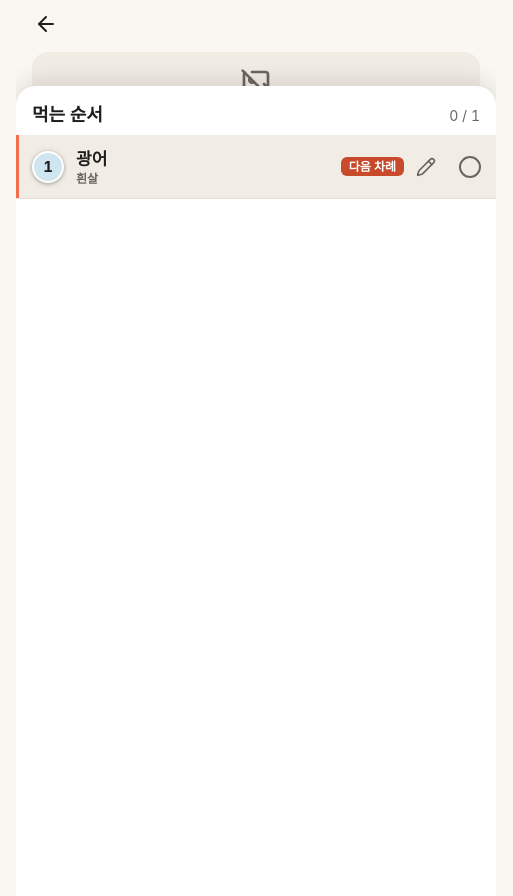
Test: ResultPage › 모든 항목을 먹으면 완료 배너가 뜬다 (FR-RES-010)
Click the button named "1번 광어 먹음 표시": [470, 167] box x1=448 y1=145 x2=492 y2=189
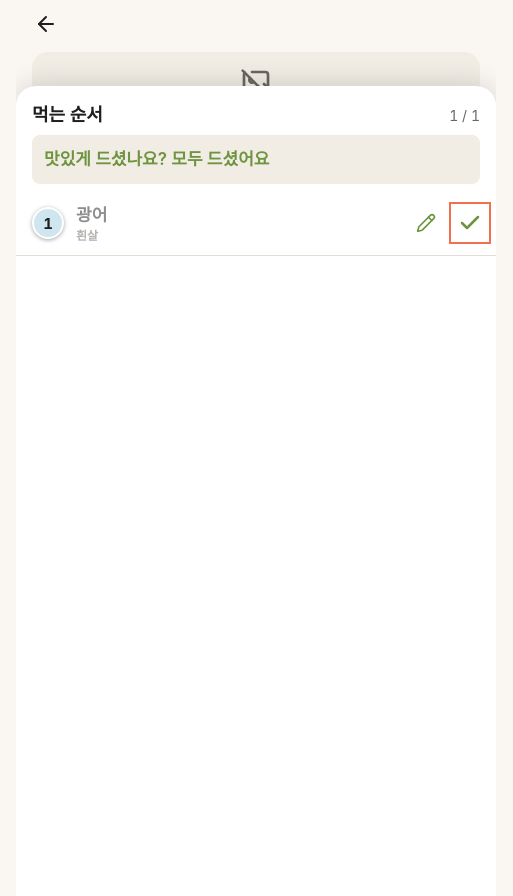
Now the text "맛있게 드셨나요? 모두 드셨어요" is shown, box x1=32 y1=135 x2=480 y2=184
